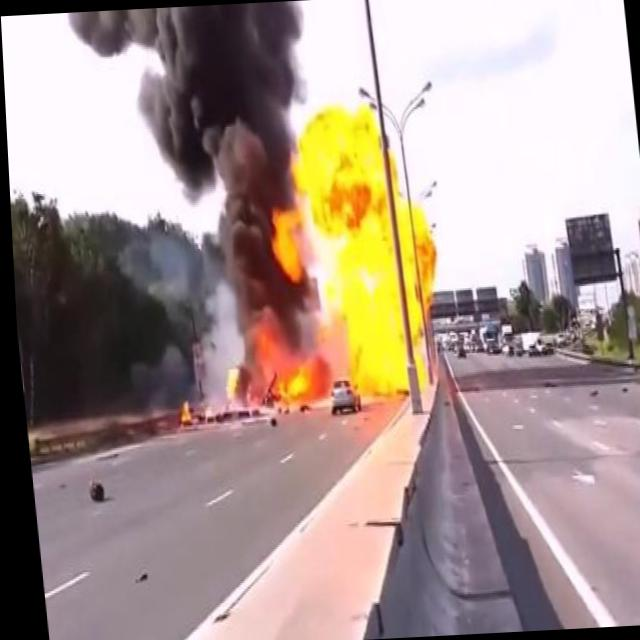fire: (255, 93, 449, 414), (215, 359, 240, 406), (173, 397, 190, 428)
